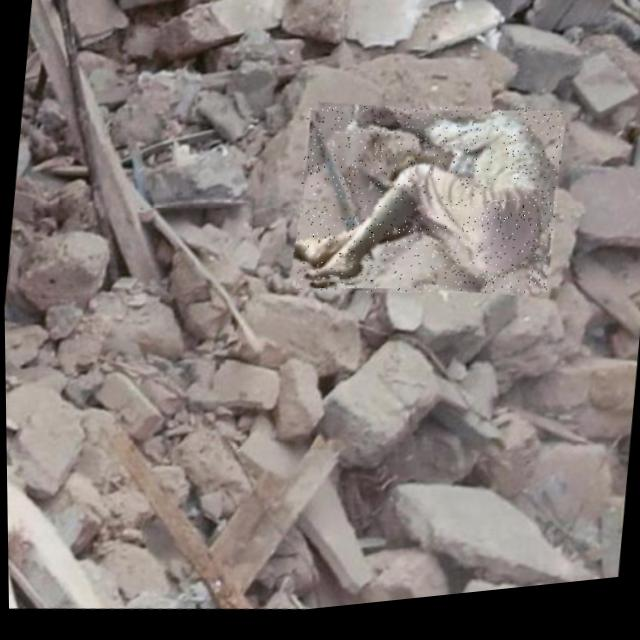Person in Rubble: (288, 92, 567, 325)
